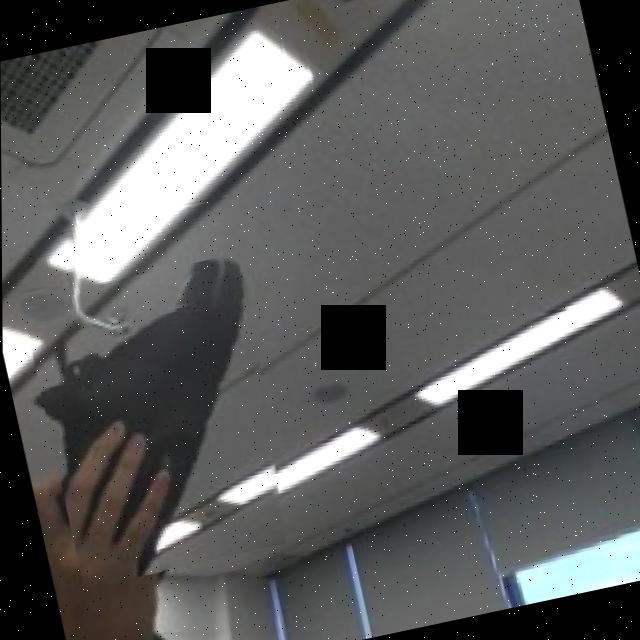shoe: (20, 252, 307, 589)
